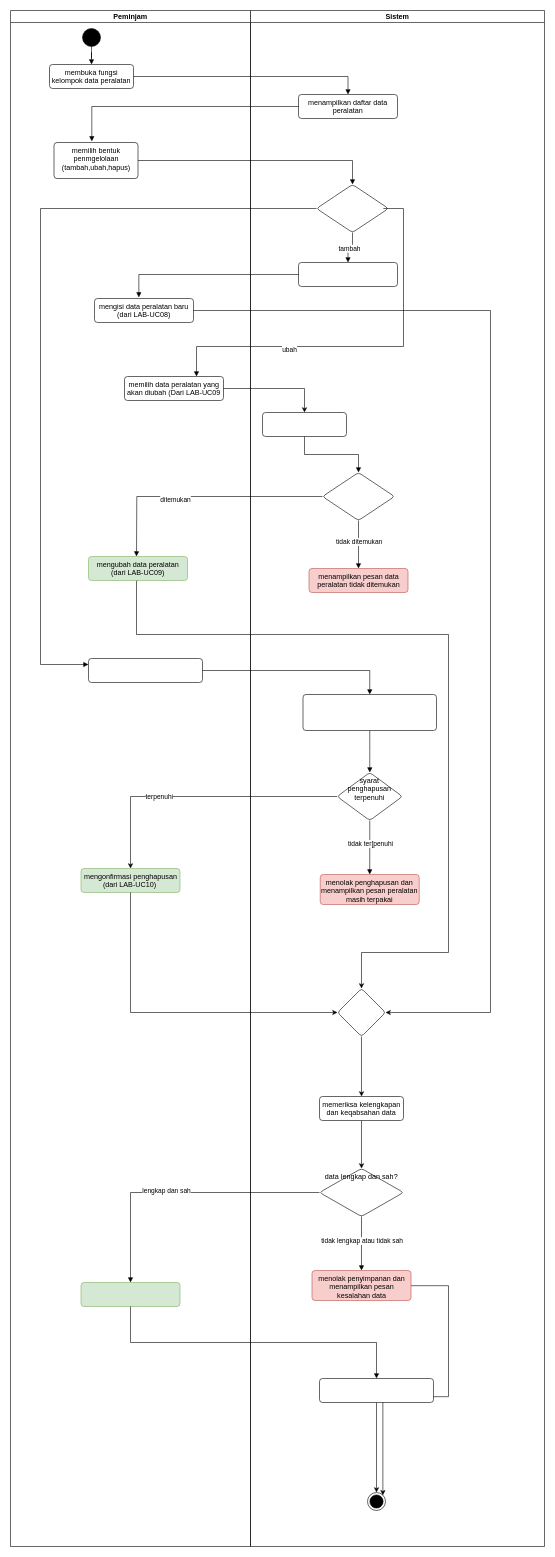
The diagram is 555 pixels wide and 1557 high, and some of its shapes have lost their labels. The shapes that lost their labels are listed below. From the top down, each one's centre as x and y in pixels, then its label:
the point at 352,208: bentuk pengelolaan yang dipilih
the point at 348,274: menampilkan formulir data peralatan
the point at 304,424: menampilkan data peralatan saat ini
the point at 358,496: data peralatan ditemukan
the point at 145,670: memilih data peralatan yang akan dihapus (Dari LAB-UC10)
the point at 369,712: memeriksa peralatan tidak sedang dipinjamk dan tidak memiliki pengajuan aktif
the point at 130,1294: menyimpan perubahan
the point at 376,1390: menyimpan perubahanm dan menampilkan konfirmasi
